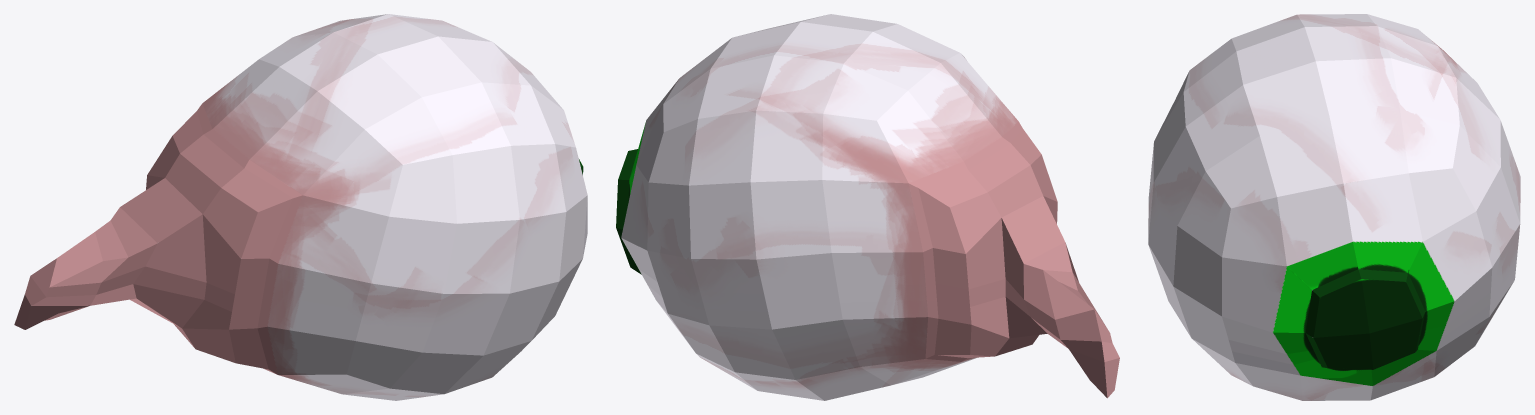
File: eyeballr.fbx
3 renders of one model, left to right at view 1: azimuth 30°, elevation 25°; view 2: azimuth 150°, elevation 25°; view 3: azimuth 270°, elevation 25°, orthographic.
Parts seen in each view (by area): view 1: Cube.003; view 2: Cube.003; view 3: Cube.003.
Part boxes in pixels (box(x1,y1,x2,y2)): Cube.003: box(14, 14, 587, 400); Cube.003: box(616, 14, 1119, 400); Cube.003: box(1148, 14, 1520, 400).
Size of the model in its own units: 5300 by 3380 by 3372.
Materials: 1 (1 with a texture image).
